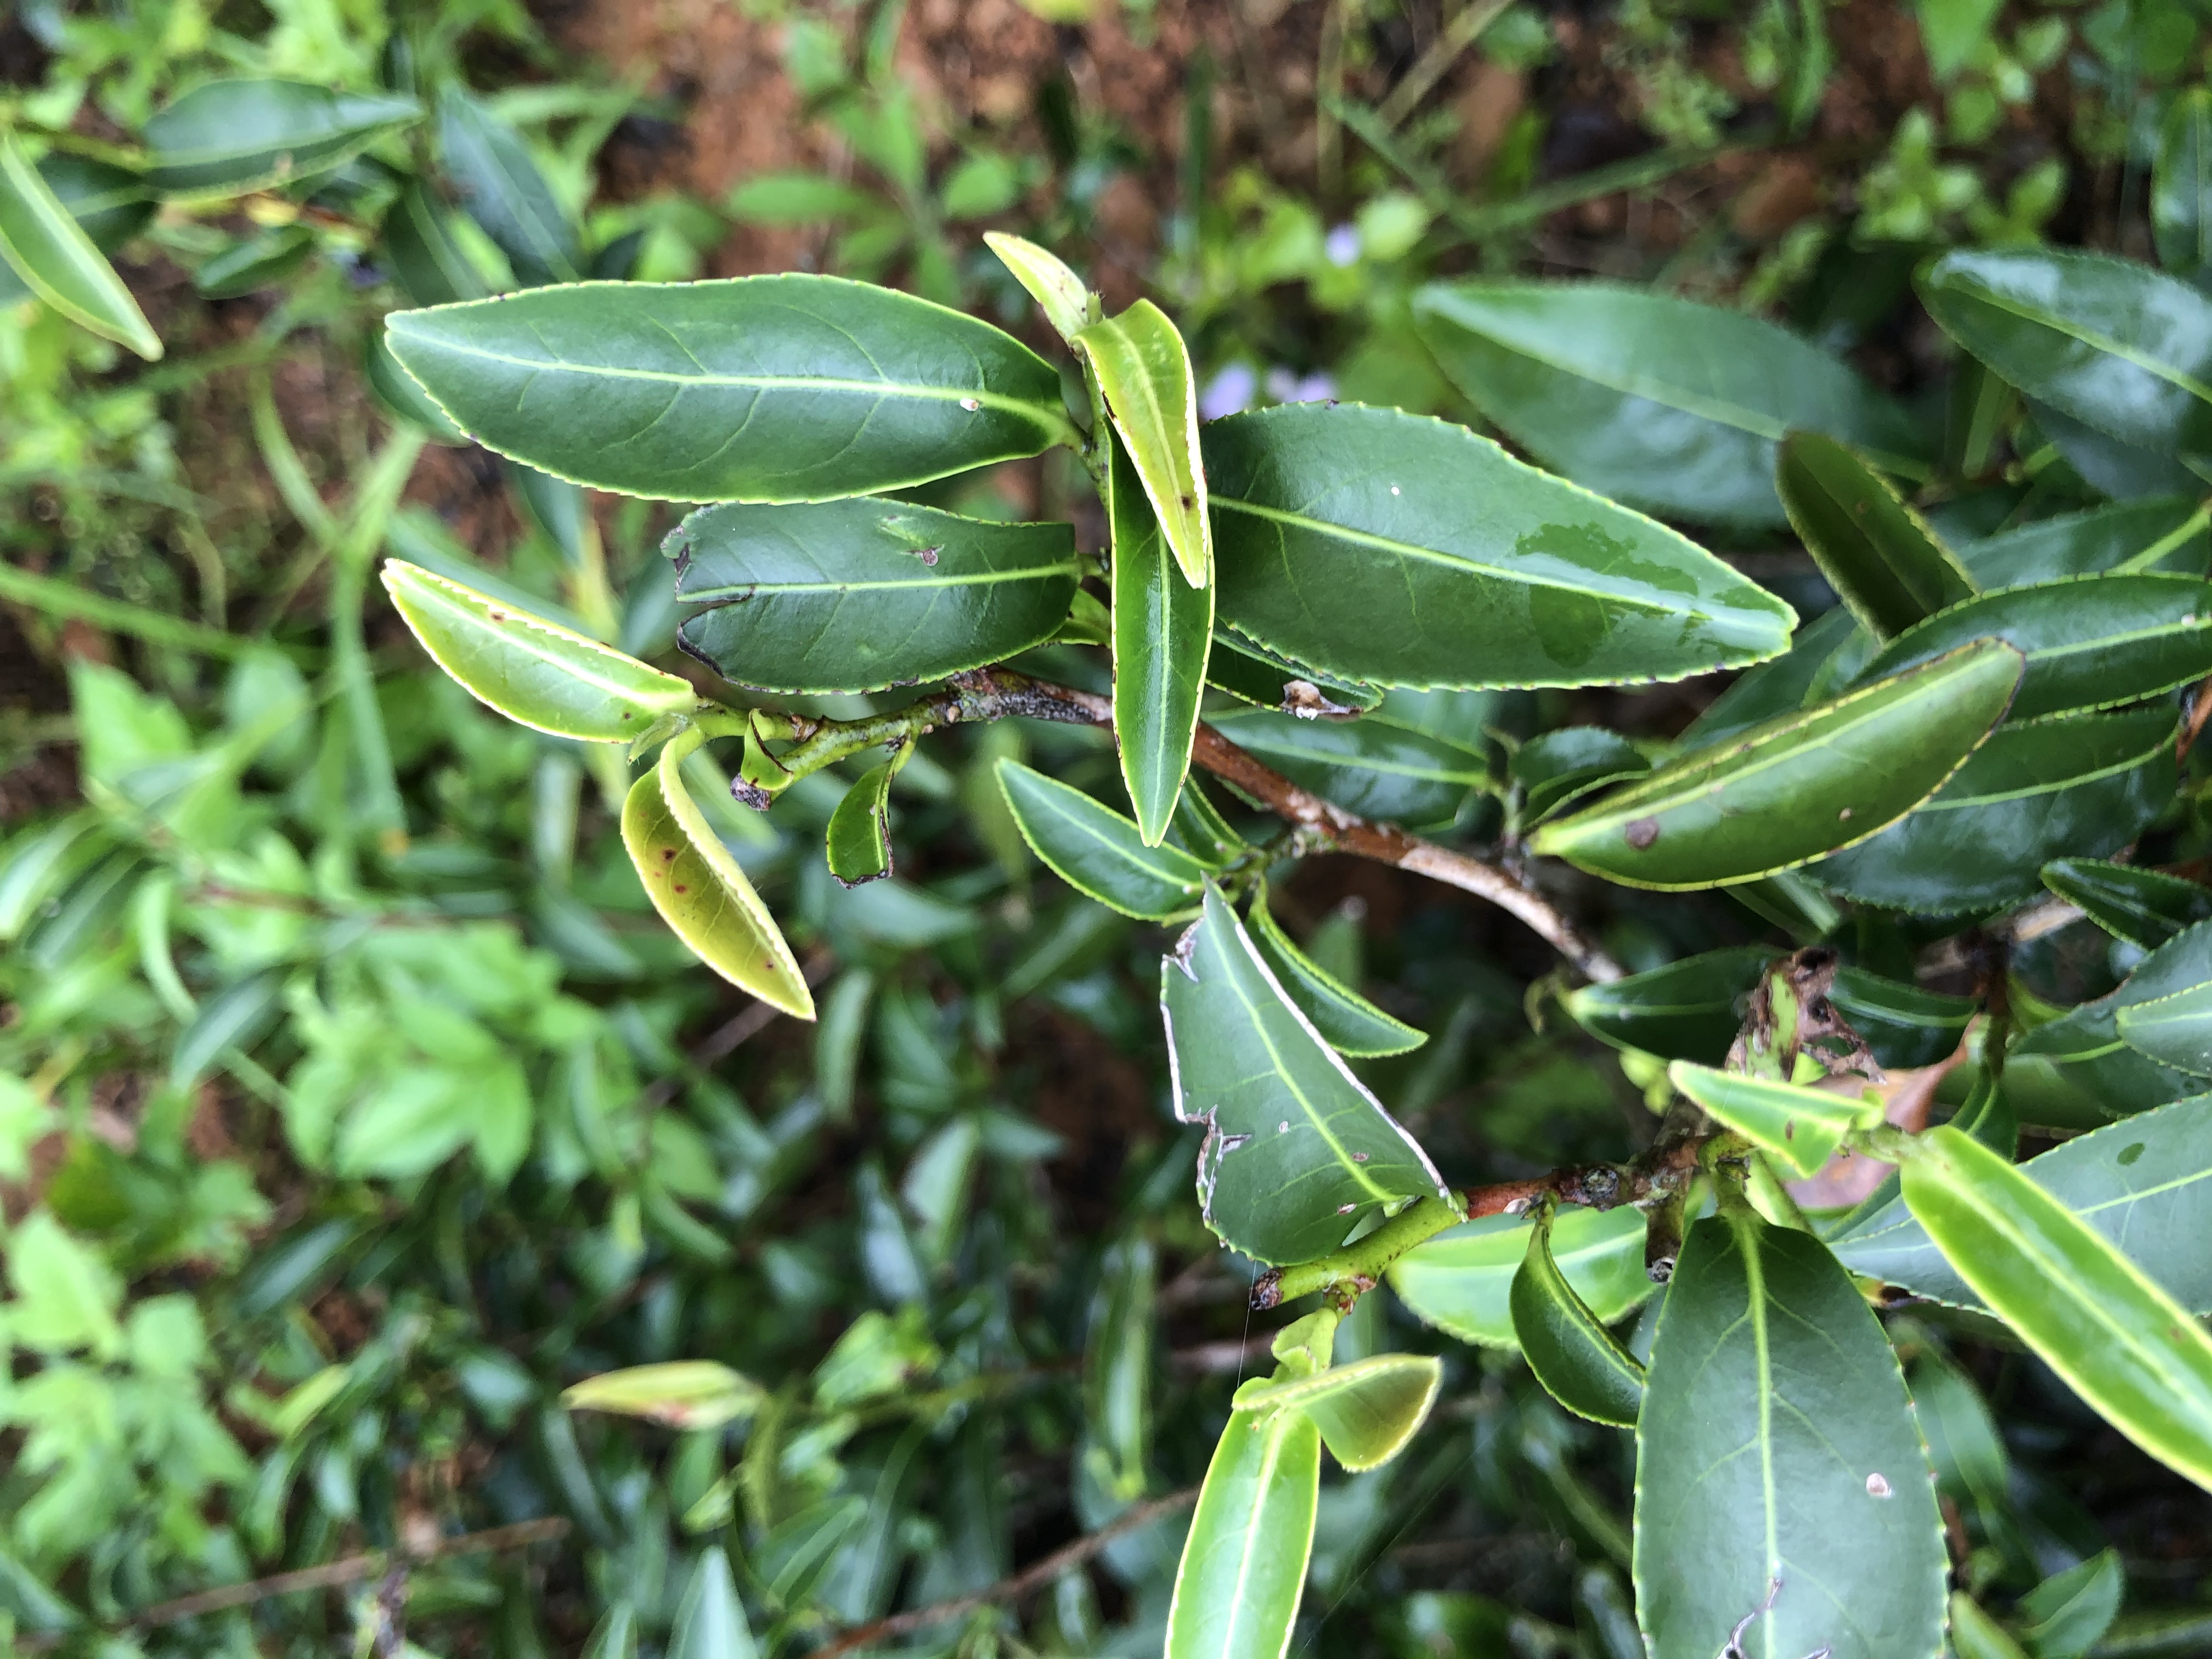formosa: (1017, 242, 1235, 594)
fungi_early: (617, 746, 813, 1044)
tortrix: (991, 230, 1226, 598)
